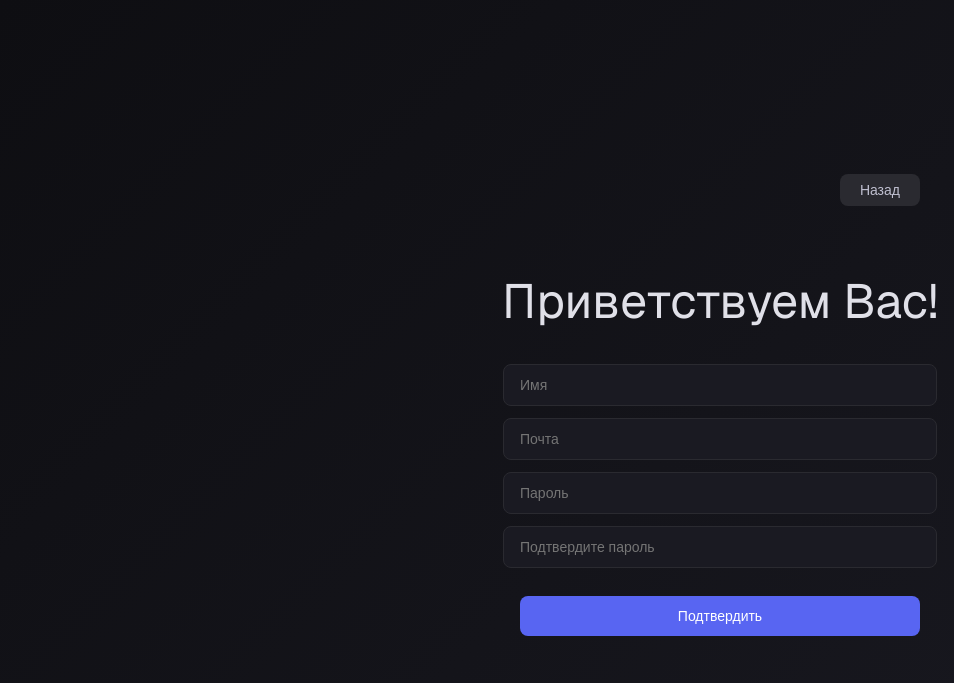
Register_Page › shows error when password is too short
The width and height of the screenshot is (954, 683).
Type "testuser" into the field with placeholder "Имя" at (720, 385), box [503,364,937,406]
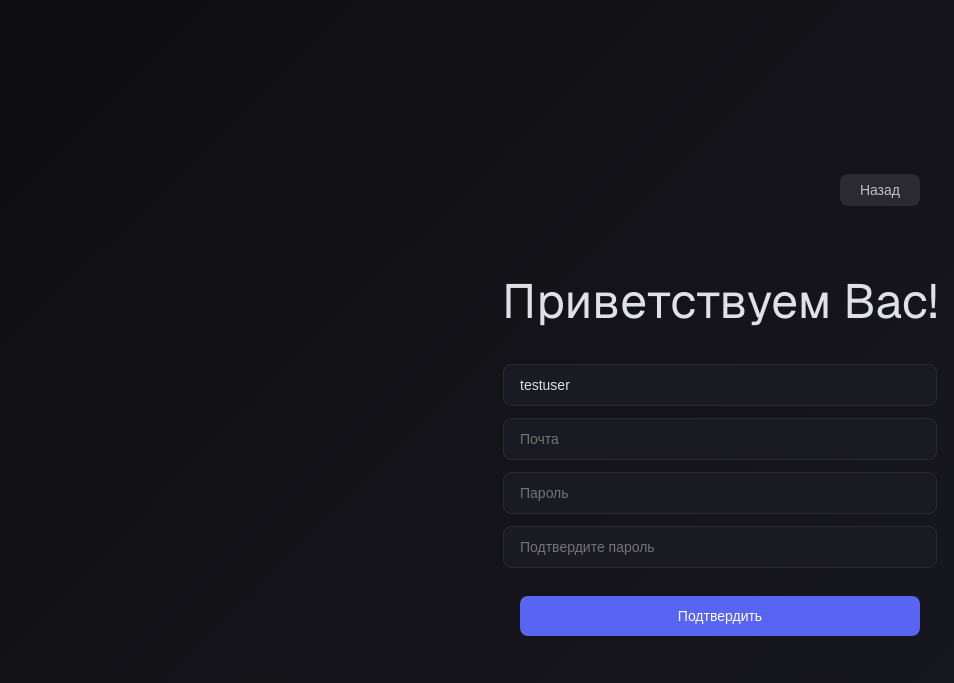
Type "test@test.com" into the field with placeholder "Почта" at (720, 439), box [503,418,937,460]
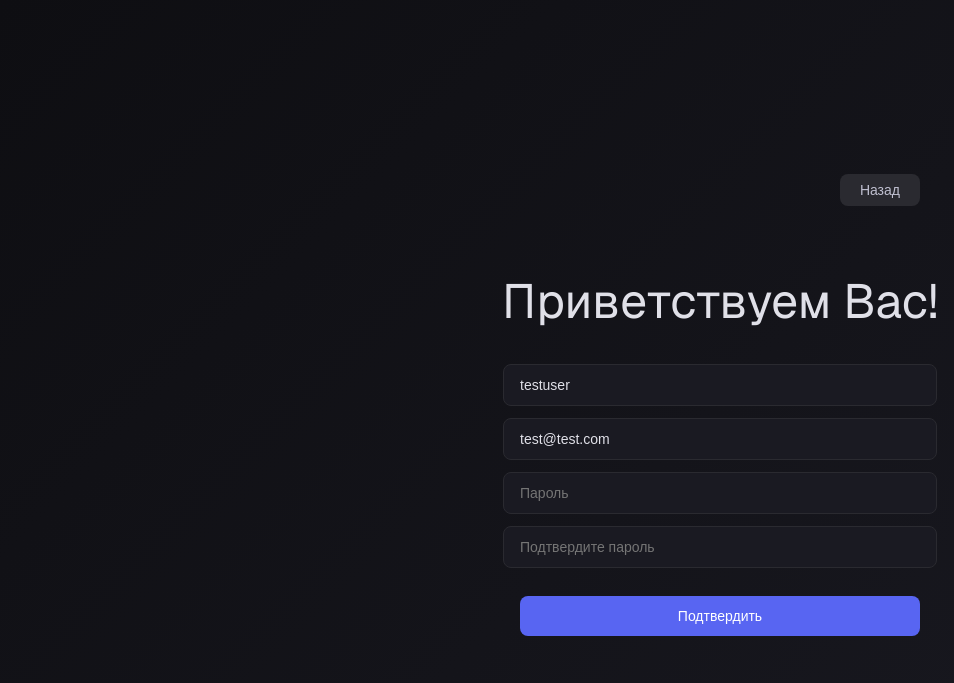
Type "123" into the password field with placeholder "Пароль" at (720, 493), box [503,472,937,514]
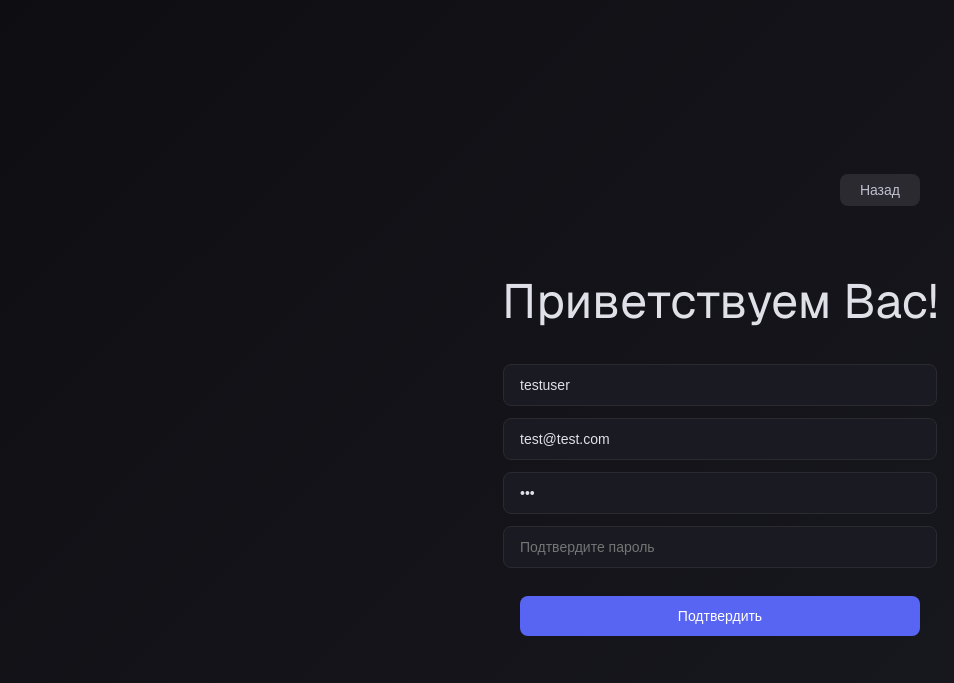
Type "123" into the password field with placeholder "Подтвердите пароль" at (720, 547), box [503,526,937,568]
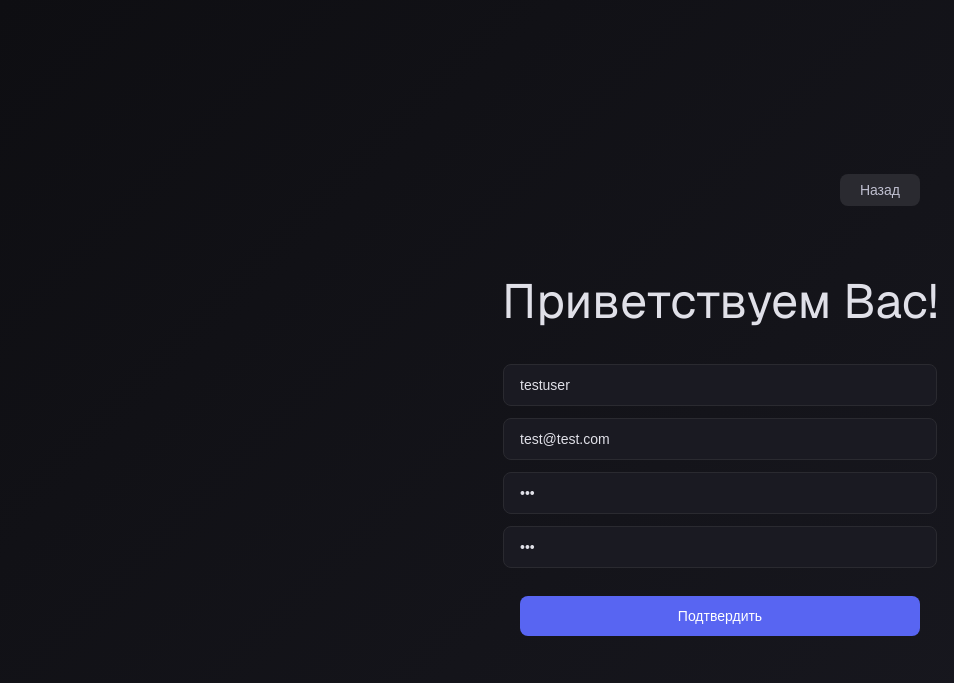
Submit the form, box [520,364,920,636]
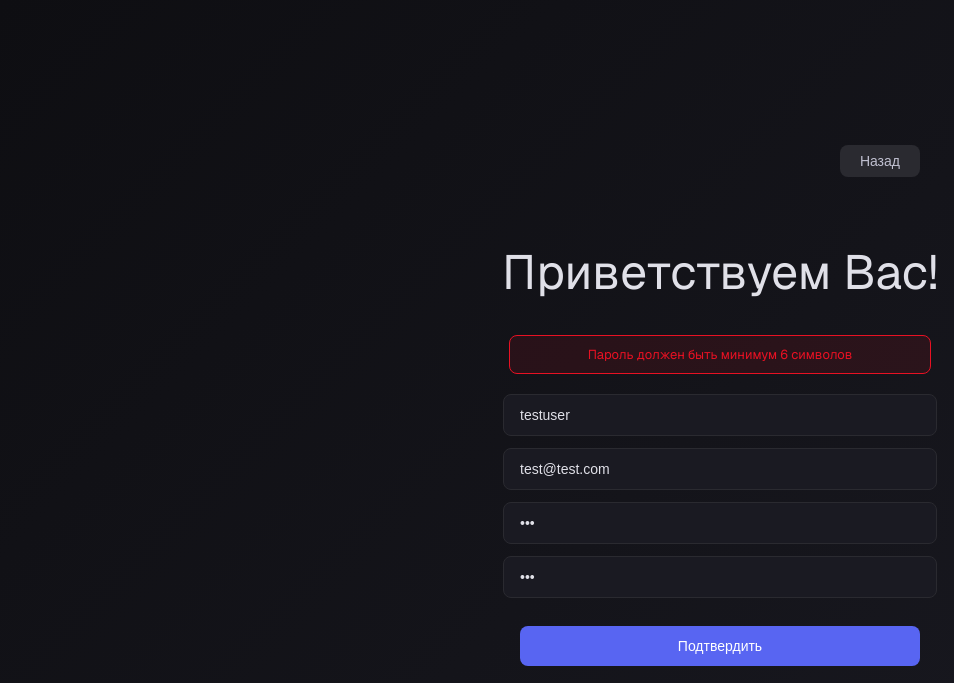
Expected: the text "Пароль должен быть минимум 6 символов" is shown, [509,334,931,374]
